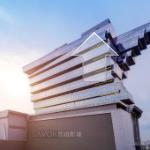缺口: (73, 30, 119, 85)
